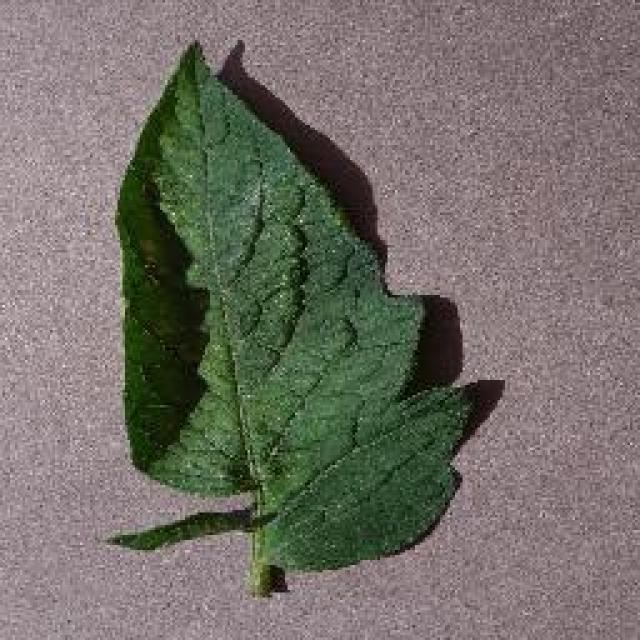Tomato mosaic virus leaf: (100, 45, 472, 577)
